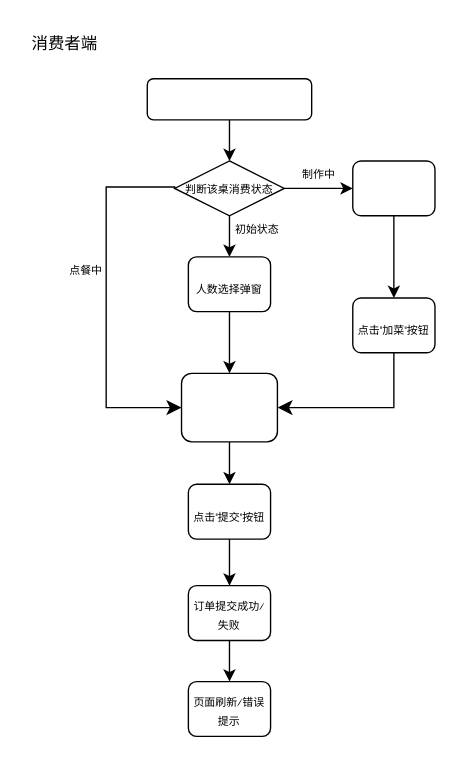
This 459x778 diagram has some shape labels left out. Here are the shapes that lost their labels. From the top down, the centre of each, then its label:
the point at 229,98: 扫二维码/刷新页面
the point at 393,188: 进入订单页面
the point at 228,407: 点餐页面（显示菜单，单价，折扣价，总价）
